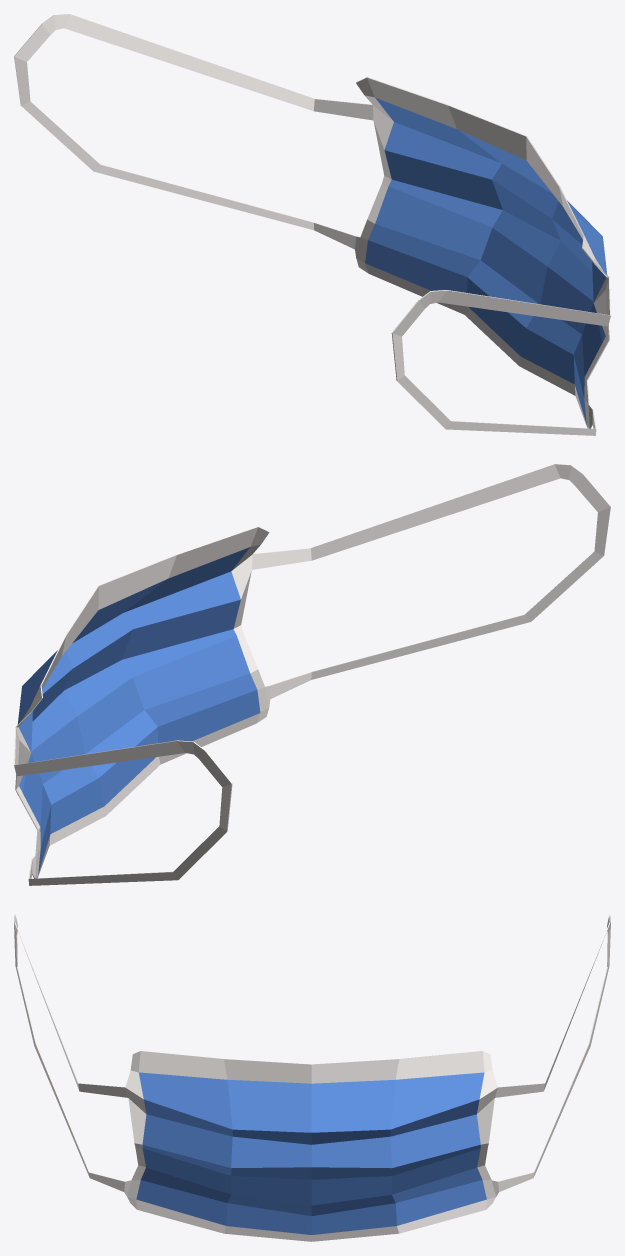
File: Facemask.fbx
The picture shows the model from 3 angles, top to bottom: view 1: azimuth 30°, elevation 25°; view 2: azimuth 150°, elevation 25°; view 3: azimuth 270°, elevation 25°; orthographic projection. The views are drawn at different scales.
Parts seen in each view (by area): view 1: Facemask; view 2: Facemask; view 3: Facemask.
Boxes of the visible parts, x1=… form: Facemask: x1=14, y1=14, x2=610, y2=435; Facemask: x1=14, y1=464, x2=610, y2=885; Facemask: x1=14, y1=914, x2=610, y2=1241.
Bounding box in the file's own units: 50.34 × 37.61 × 92.07.
